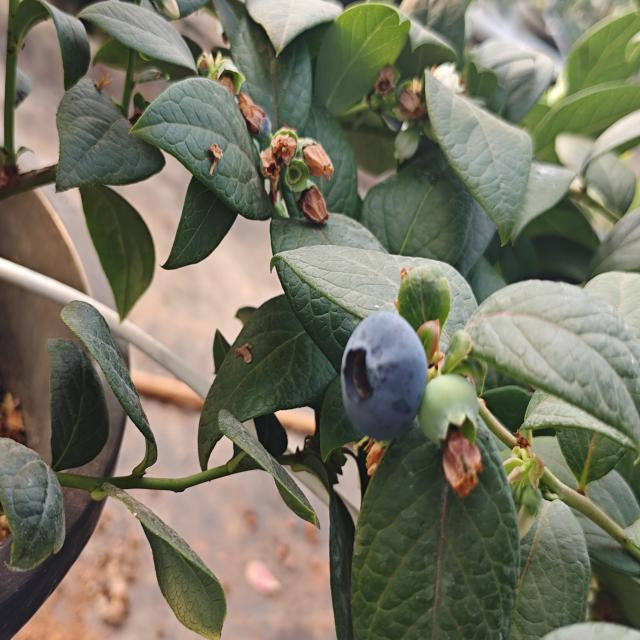ripe: (338, 308, 429, 445)
